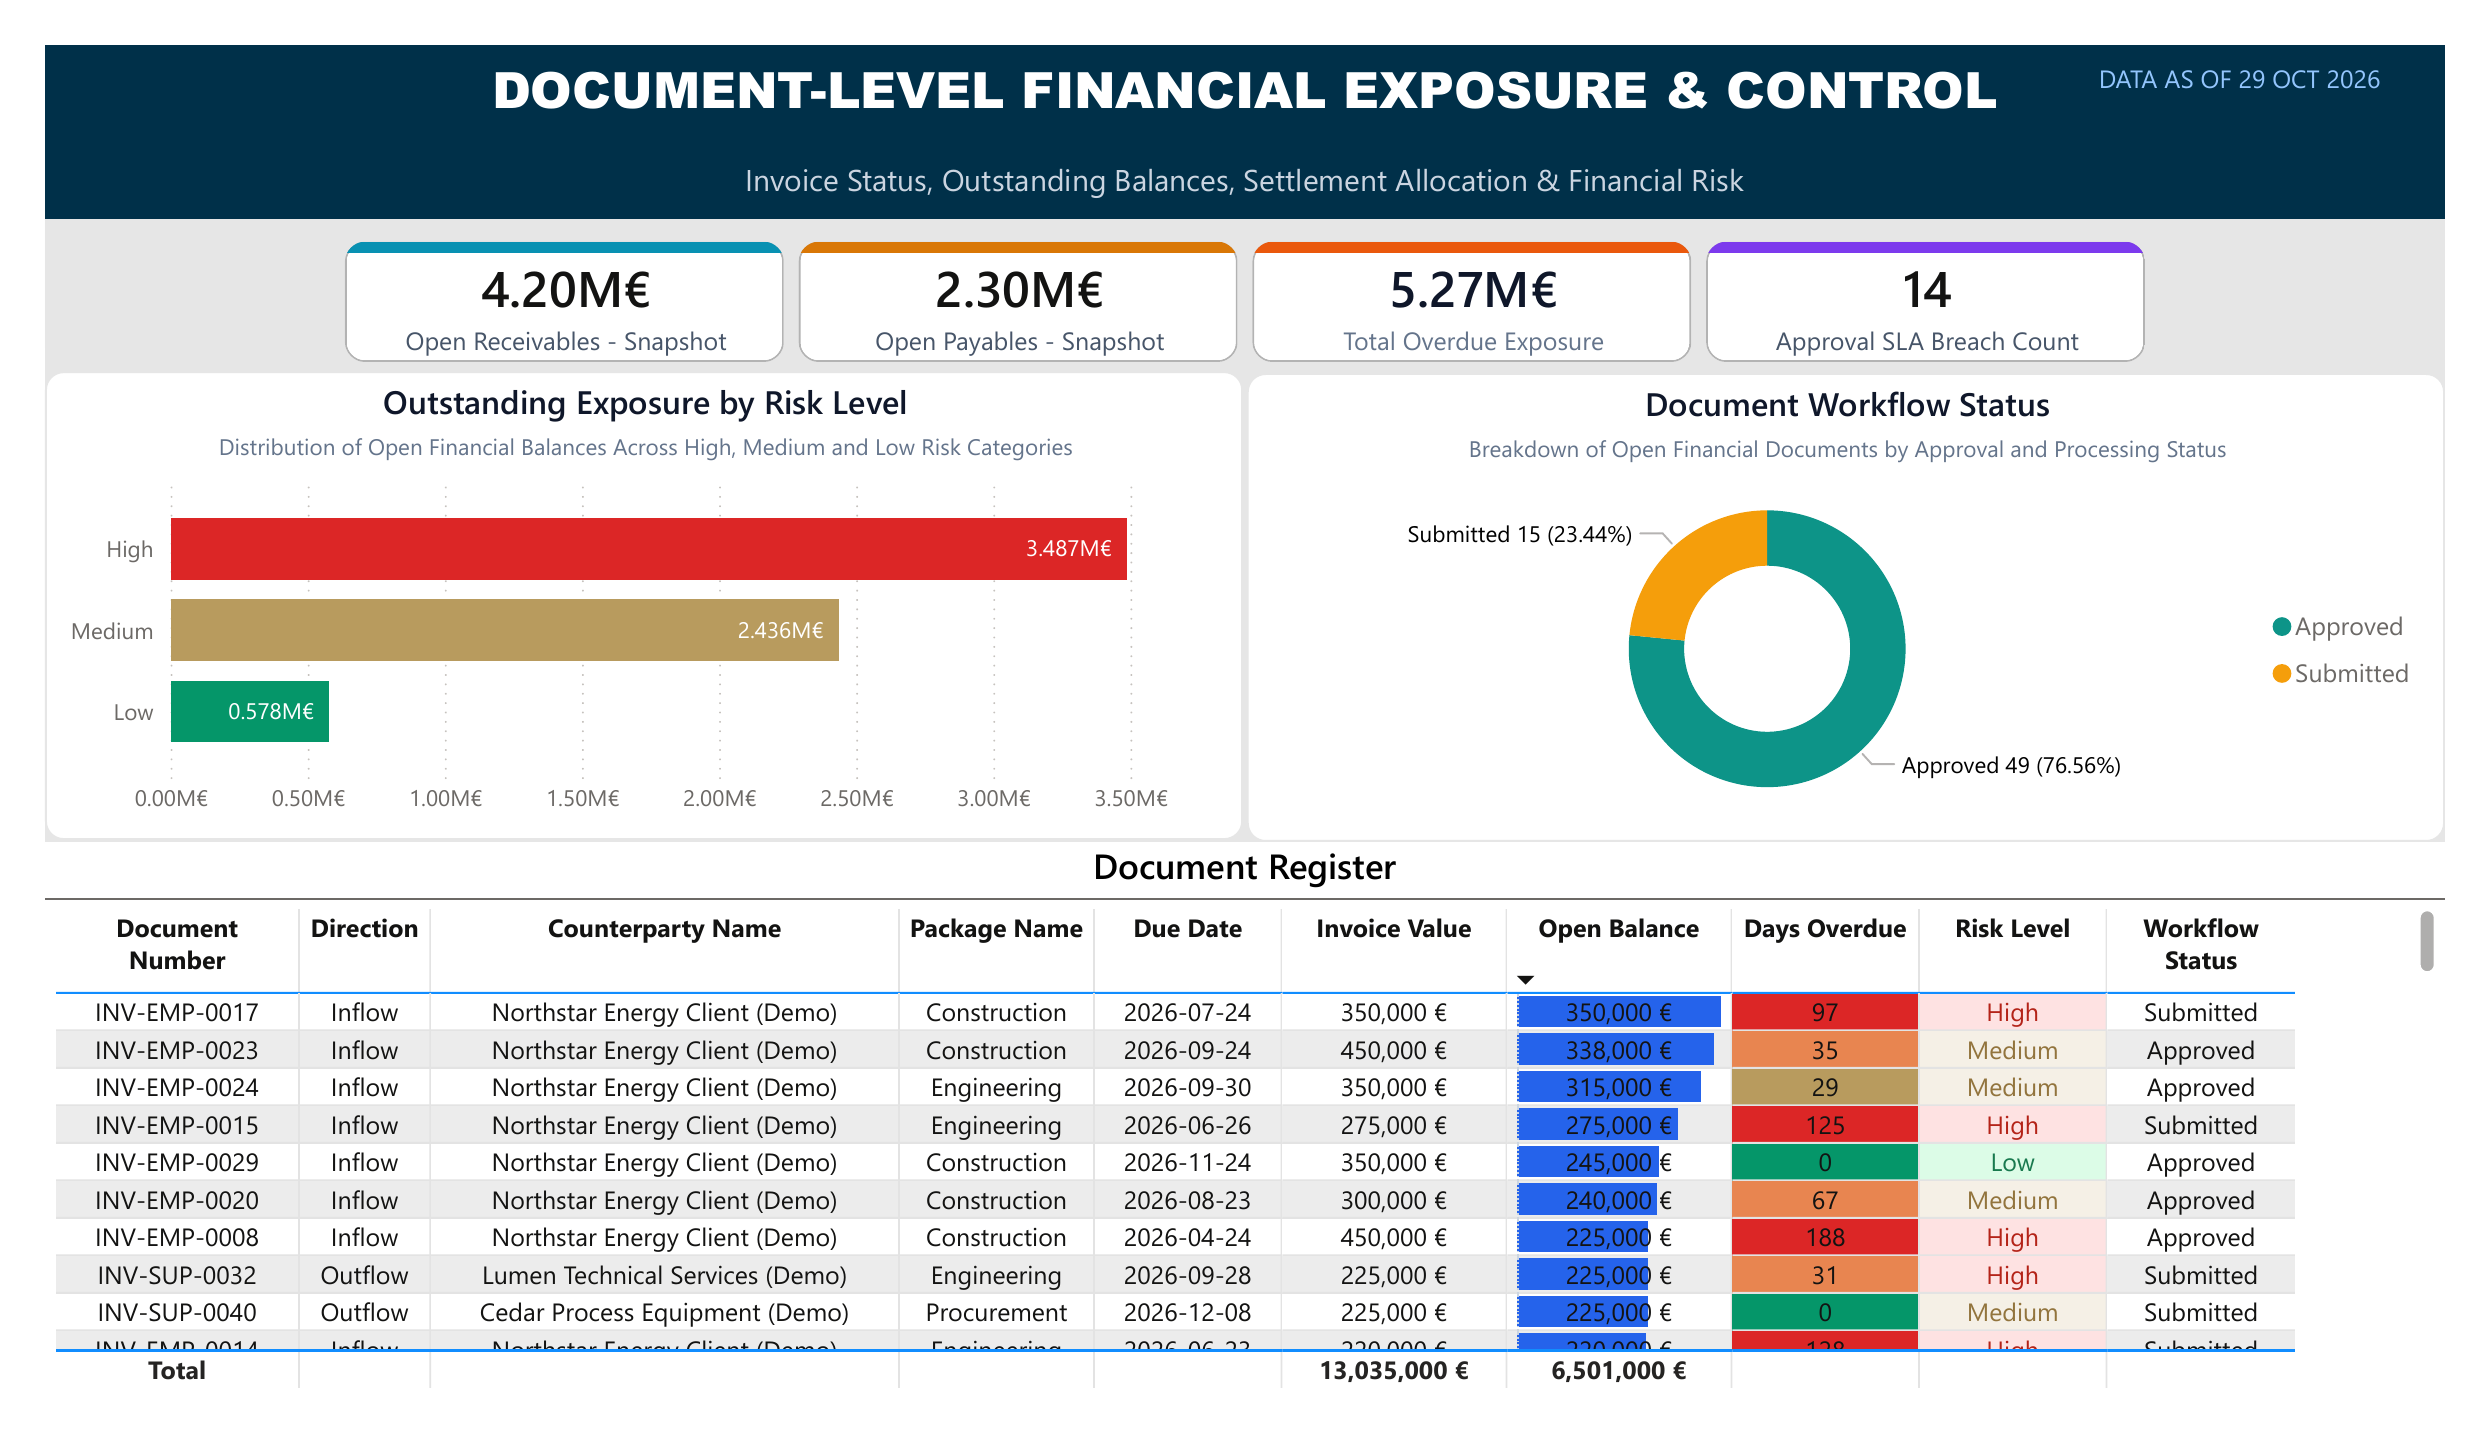

The page's visual inventory and layout, read from the dashboard file:
{"tool":"powerbi","page":{"name":"Document-Level Financial Exposure & Control","canvas":[1280,720],"ordinal":1},"visuals":[{"type":"group","id":"g1","title":"Group 1","box":[0,0,1280.2,93.2],"z":0,"group":"g2"},{"type":"tableEx","title":"Document Register","fields":{"Values":["Fact_Documents.DocumentNumber","Fact_Documents.Direction","Dim_Counterparty.CounterpartyName","Dim_Package.PackageName","Fact_Documents.DueDate","Sum(Fact_Documents.InvoiceAmountEUR)","_Measures.Outstanding Balance - Snapshot","Fact_Documents.DaysPastDueAsOf","Fact_Documents.RiskLevelAsOf","Fact_Documents.WorkflowStatus"]},"box":[0,424.5,1280,295.5],"z":0},{"type":"textbox","box":[1060.7,4,219.3,46.5],"z":1000,"group":"g2"},{"type":"cardVisual","fields":{"Data":["_Measures.Open Receivables - Snapshot","_Measures.Open Payables - Snapshot","_Measures.Total Overdue Exposure","_Measures.Approval SLA Breach Count"]},"box":[155.1,99.7,971.5,74.4],"z":1000},{"type":"group","id":"g2","title":"Group 2","box":[0,0,1280.2,93.2],"z":4000},{"type":"textbox","box":[0,0,1280.2,56.2],"z":4000,"group":"g1"},{"type":"textbox","box":[0,56.2,1280.2,37],"z":5000,"group":"g1"},{"type":"clusteredBarChart","title":"Outstanding Exposure by Risk Level","fields":{"Category":["Fact_Documents.RiskLevelAsOf"],"Y":["_Measures.Outstanding Balance - Snapshot"]},"box":[0,174.2,638.7,250],"z":5000},{"type":"donutChart","title":"Document Workflow Status","fields":{"Category":["Fact_Documents.WorkflowStatus"],"Y":["Count(Fact_Documents.DocumentID)"]},"box":[641.4,174.8,638.6,250],"z":6000}]}

Visuals, with their boxes in screenshot pixels (x1, y1, x2, y2), scaled from the page's 1280x720 canvas onto the 2490x1440 screenshot:
"Group 1" group: l=0, t=0, r=2489, b=186
"Document Register" tableEx: l=0, t=849, r=2489, b=1439
textbox: l=2063, t=8, r=2489, b=101
cardVisual - _Measures.Open Receivables - Snapshot x _Measures.Open Payables - Snapshot: l=302, t=199, r=2192, b=348
"Group 2" group: l=0, t=0, r=2489, b=186
textbox: l=0, t=0, r=2489, b=112
textbox: l=0, t=112, r=2489, b=186
"Outstanding Exposure by Risk Level" clusteredBarChart: l=0, t=348, r=1242, b=848
"Document Workflow Status" donutChart: l=1248, t=350, r=2489, b=850
